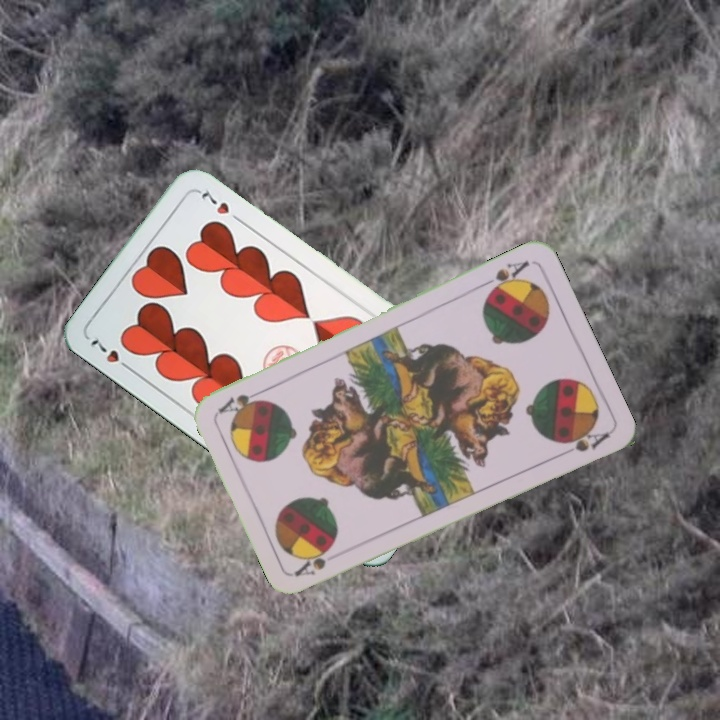H7: (85, 332, 136, 375)
SA: (477, 256, 533, 298), (291, 548, 330, 579)
